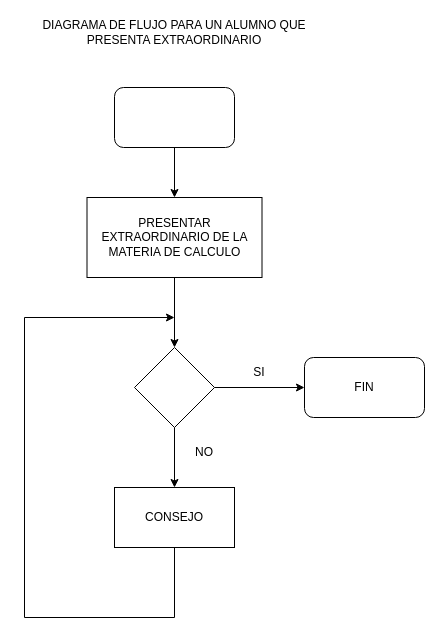
The diagram is 442 pixels wide and 636 high, and some of its shapes have lost their labels. The shapes that lost their labels are listed below. From the top down, each one's centre as x and y in pixels, then its label:
At [174,117]: "INICIO".
At [174,387]: "CAL>70".
